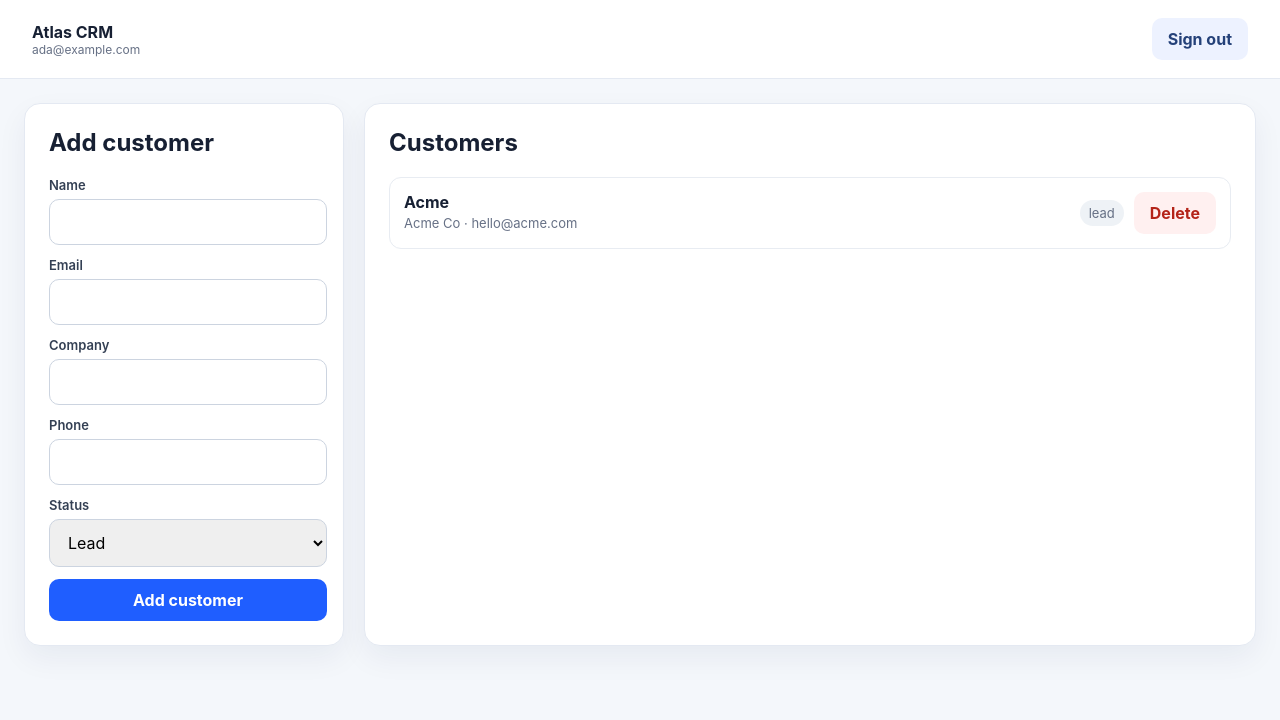
Test case: Dashboard › asks for confirmation before deleting and reports success
This screenshot has width=1280, height=720.
Expected: the text "Acme" is shown, [404,192,449,212]
Click the button "Delete": (1175, 213) [1134,192,1216,234]
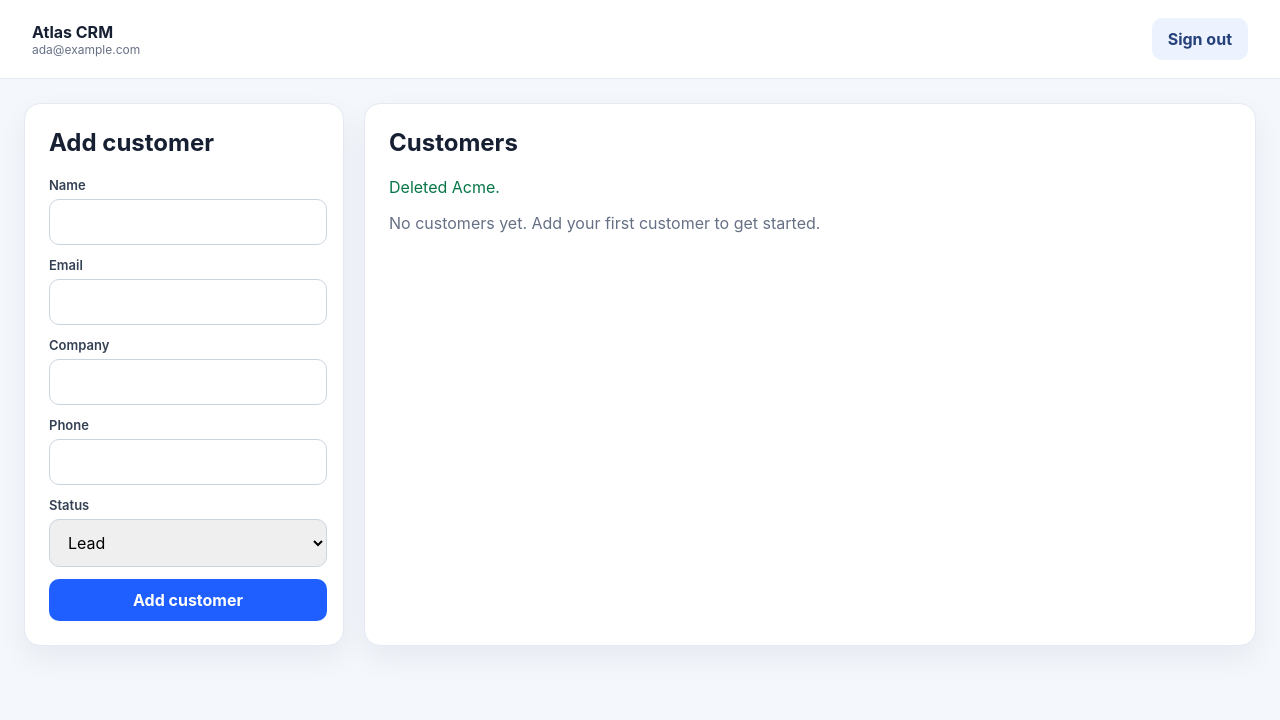
Result: the text "Deleted Acme." is shown at [389,177,500,197]
